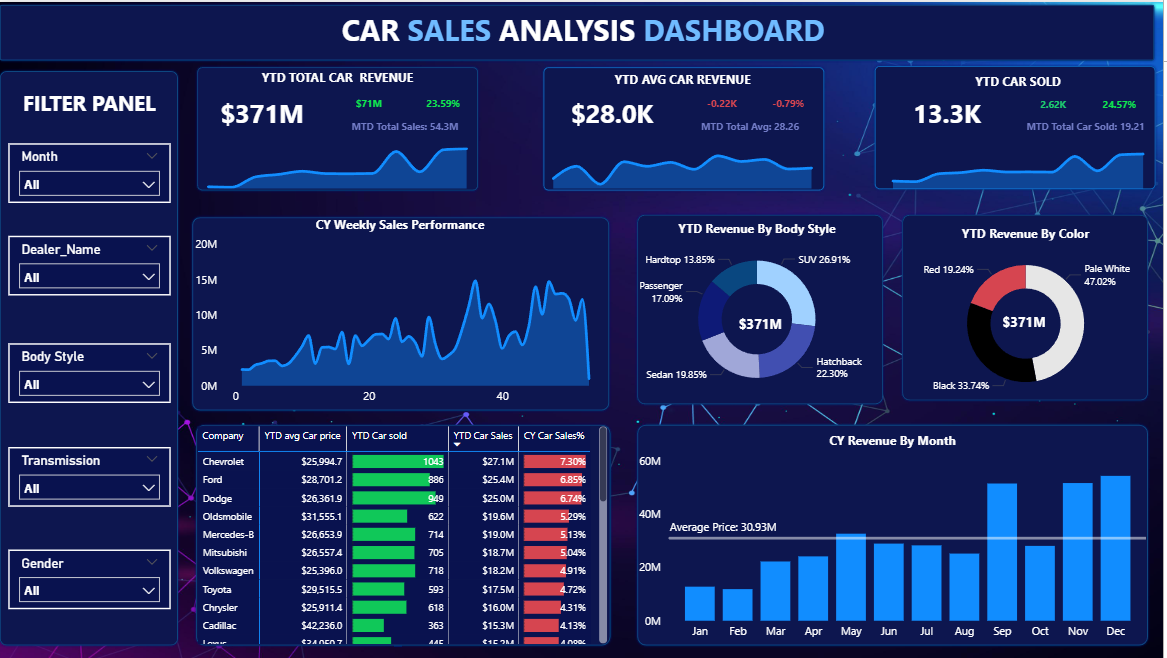

What the dashboard file says about the page in this screenshot:
{"tool":"powerbi","page":{"name":"Page 1","canvas":[1280,720],"ordinal":0},"visuals":[{"type":"shape","box":[216.3,68.3,314.2,141.3],"z":0},{"type":"shape","box":[210.7,233.6,463.8,218.2],"z":0,"group":"g4"},{"type":"textbox","box":[216.3,68.3,314.2,30.2],"z":1000},{"type":"shape","box":[596.9,68.6,314.2,141.3],"z":2000},{"type":"card","fields":{"Values":["car_data.YTD sales"]},"box":[216.3,98.5,148.2,48],"z":2000,"group":"g1"},{"type":"shape","box":[960.6,67.2,314.2,141.3],"z":3000},{"type":"card","fields":{"Values":["car_data.Cy & Py diff"]},"box":[385.1,98.5,45.3,24.7],"z":3000,"group":"g1"},{"type":"shape","box":[0,72.7,201.7,636.7],"z":4000},{"type":"card","fields":{"Values":["car_data.YoY sales"]},"box":[448.2,98.5,82.3,24.7],"z":4000,"group":"g1"},{"type":"shape","box":[0,0,1273.4,67.2],"z":5000},{"type":"textbox","box":[968.8,72.7,304.6,28.8],"z":5000,"group":"g3"},{"type":"card","fields":{"Values":["car_data.MTD Total Sales"]},"box":[364.5,123.2,166,31.6],"z":5000,"group":"g1"},{"type":"textbox","box":[12.3,4.1,1262.4,64.5],"z":6000},{"type":"areaChart","title":"CY Weekly Sales Performance","fields":{"Category":["CalanderT.week"],"Y":["Sum(car_data.Price ($))"]},"box":[212.5,235.5,459.7,216.8],"z":6000,"group":"g4"},{"type":"card","fields":{"Values":["car_data.Filter Panel"]},"box":[12.3,89.2,178.4,46.7],"z":7000},{"type":"areaChart","fields":{"Y":["car_data.Total_price"],"Category":["CalanderT.Date.Variation.Date Hierarchy.Month"]},"box":[216.3,146.5,314.2,63.1],"z":7000,"group":"g1"},{"type":"shape","box":[699.8,230.5,275.8,214.1],"z":7000,"group":"g5"},{"type":"donutChart","title":"YTD Revenue By Body Style","fields":{"Category":["car_data.Body Style"],"Y":["car_data.Total_price"]},"box":[699.8,238.7,269,201.7],"z":8000,"group":"g5"},{"type":"slicer","fields":{"Values":["car_data.Dealer_Name"]},"box":[12.3,256.6,178.4,65.9],"z":8000},{"type":"card","fields":{"Values":["car_data.YTD avg price"]},"box":[606.5,98.8,137.2,48],"z":9000,"group":"g2"},{"type":"shape","box":[990.7,230.5,275.8,209.9],"z":9000,"group":"g6"},{"type":"slicer","fields":{"Values":["car_data.Body Style"]},"box":[12.3,374.6,178.4,65.9],"z":9000},{"type":"card","fields":{"Values":["car_data.PY & CY DIFF AVG"]},"box":[764.6,99,63.1,24.7],"z":10000,"group":"g2"},{"type":"donutChart","title":"YTD  Revenue By Color","fields":{"Category":["car_data.Color"],"Y":["car_data.Total_price"]},"box":[992.1,244.2,274.4,200.3],"z":10000,"group":"g6"},{"type":"slicer","fields":{"Values":["car_data.Transmission"]},"box":[12.3,488.5,178.4,65.9],"z":10000},{"type":"card","fields":{"Values":["car_data.YOY AVG"]},"box":[828.1,98.6,82.3,24.7],"z":11000,"group":"g2"},{"type":"shape","box":[215.4,461.1,461.1,248.4],"z":11000,"group":"g7"},{"type":"slicer","fields":{"Values":["car_data.Gender"]},"box":[12.3,601,178.4,65.9],"z":11000},{"type":"card","fields":{"Values":["car_data.MTD total avg"]},"box":[744.4,123.3,166,31.6],"z":12000,"group":"g2"},{"type":"slicer","fields":{"Values":["CalanderT.Month"]},"box":[12.3,155.1,178.4,65.9],"z":12000},{"type":"textbox","box":[595.8,71.6,314.2,30.2],"z":13000,"group":"g2"},{"type":"group","id":"g1","title":"Group 1","box":[216.3,98.5,314.2,111.1],"z":14000},{"type":"areaChart","fields":{"Category":["CalanderT.Date.Variation.Date Hierarchy.Month"],"Y":["car_data.Avg total sales"]},"box":[596.2,146.6,314.2,63.1],"z":14000,"group":"g2"},{"type":"pivotTable","fields":{"Rows":["car_data.Company"],"Values":["car_data.YTD avg price","car_data.YTD Car sold","car_data.YTD sales1","car_data.YTD sales"]},"box":[215.4,461.1,459.7,248.4],"z":14000,"group":"g7"},{"type":"group","id":"g2","title":"Group 2","box":[595.8,71.6,314.6,138.2],"z":15000},{"type":"group","id":"g3","title":"Group 4","box":[968.8,72.7,305.1,138.6],"z":16000},{"type":"card","fields":{"Values":["car_data.YTD Car sold"]},"box":[968.8,98.8,148.2,48],"z":16000,"group":"g9"},{"type":"card","fields":{"Values":["car_data.YTD sales"]},"box":[790.4,337.5,96.1,35.7],"z":16000,"group":"g5"},{"type":"card","fields":{"Values":["car_data.DIFF CY & LY CAR SOld"]},"box":[1128.1,100.3,63.1,24.7],"z":17000,"group":"g9"},{"type":"group","id":"g4","title":"Group 5","box":[210.7,233.6,463.8,218.7],"z":17000},{"type":"card","fields":{"Values":["car_data.YTD sales"]},"box":[1079.9,336.2,96.1,35.7],"z":17000,"group":"g6"},{"type":"card","fields":{"Values":["car_data.% CAR SOLD"]},"box":[1191.6,99.9,82.3,24.7],"z":18000,"group":"g9"},{"type":"group","id":"g5","title":"Group 6","box":[699.8,230.5,275.8,214.1],"z":18000},{"type":"shape","box":[699.8,461.1,566.7,248.4],"z":18000,"group":"g8"},{"type":"card","fields":{"Values":["car_data.MTD CAR SOLDD"]},"box":[1117,123.5,156.4,31.6],"z":19000,"group":"g9"},{"type":"group","id":"g6","title":"Group 7","box":[990.7,230.5,275.8,214.1],"z":19000},{"type":"columnChart","title":"CY Revenue By Month","fields":{"Category":["CalanderT.Month"],"Y":["Sum(car_data.Price ($))"]},"box":[699.8,472.1,566.7,237.4],"z":19000,"group":"g8"},{"type":"group","id":"g7","title":"Group 8","box":[215.4,461.1,461.1,248.4],"z":20000},{"type":"areaChart","fields":{"Y":["car_data.Car Sold"],"Category":["CalanderT.Date.Variation.Date Hierarchy.Month"]},"box":[968.8,148.2,304.6,63.1],"z":21000,"group":"g9"},{"type":"group","id":"g8","title":"Group 9","box":[699.8,461.1,566.7,248.4],"z":21000},{"type":"group","id":"g9","title":"Group 3","box":[968.8,98.8,305.1,112.5],"z":29000,"group":"g3"}]}

Visuals, with their boxes in screenshot pixels (x1, y1, x2, y2), scaled from the page's 1280x720 canvas onto the 1167x658 screenshot:
shape: select_region(197, 62, 484, 192)
shape: select_region(192, 213, 615, 413)
textbox: select_region(197, 62, 484, 90)
shape: select_region(544, 63, 831, 192)
card - car_data.YTD sales: select_region(197, 90, 332, 134)
shape: select_region(876, 61, 1162, 191)
card - car_data.Cy & Py diff: select_region(351, 90, 392, 113)
shape: select_region(0, 66, 184, 648)
card - car_data.YoY sales: select_region(409, 90, 484, 113)
shape: select_region(0, 0, 1161, 61)
textbox: select_region(883, 66, 1161, 93)
card - car_data.MTD Total Sales: select_region(332, 113, 484, 141)
textbox: select_region(11, 4, 1162, 63)
"CY Weekly Sales Performance" areaChart: select_region(194, 215, 613, 413)
card - car_data.Filter Panel: select_region(11, 82, 174, 124)
areaChart - car_data.Total_price x CalanderT.Date.Variation.Date Hierarchy.Month: select_region(197, 134, 484, 192)
shape: select_region(638, 211, 889, 406)
"YTD Revenue By Body Style" donutChart: select_region(638, 218, 883, 402)
slicer - car_data.Dealer_Name: select_region(11, 235, 174, 295)
card - car_data.YTD avg price: select_region(553, 90, 678, 134)
shape: select_region(903, 211, 1155, 402)
slicer - car_data.Body Style: select_region(11, 342, 174, 403)
card - car_data.PY & CY DIFF AVG: select_region(697, 90, 755, 113)
"YTD  Revenue By Color" donutChart: select_region(905, 223, 1155, 406)
slicer - car_data.Transmission: select_region(11, 446, 174, 507)
card - car_data.YOY AVG: select_region(755, 90, 830, 113)
shape: select_region(196, 421, 617, 648)
slicer - car_data.Gender: select_region(11, 549, 174, 609)
card - car_data.MTD total avg: select_region(679, 113, 830, 142)
slicer - CalanderT.Month: select_region(11, 142, 174, 202)
textbox: select_region(543, 65, 830, 93)
"Group 1" group: select_region(197, 90, 484, 192)
areaChart - CalanderT.Date.Variation.Date Hierarchy.Month x car_data.Avg total sales: select_region(544, 134, 830, 192)
pivotTable - car_data.Company x car_data.YTD avg price: select_region(196, 421, 616, 648)
"Group 2" group: select_region(543, 65, 830, 192)
"Group 4" group: select_region(883, 66, 1161, 193)
card - car_data.YTD Car sold: select_region(883, 90, 1018, 134)
card - car_data.YTD sales: select_region(721, 308, 808, 341)
card - car_data.DIFF CY & LY CAR SOld: select_region(1029, 92, 1086, 114)
"Group 5" group: select_region(192, 213, 615, 413)
card - car_data.YTD sales: select_region(985, 307, 1072, 340)
card - car_data.% CAR SOLD: select_region(1086, 91, 1161, 114)
"Group 6" group: select_region(638, 211, 889, 406)
shape: select_region(638, 421, 1155, 648)
card - car_data.MTD CAR SOLDD: select_region(1018, 113, 1161, 142)
"Group 7" group: select_region(903, 211, 1155, 406)
"CY Revenue By Month" columnChart: select_region(638, 431, 1155, 648)
"Group 8" group: select_region(196, 421, 617, 648)
areaChart - car_data.Car Sold x CalanderT.Date.Variation.Date Hierarchy.Month: select_region(883, 135, 1161, 193)
"Group 9" group: select_region(638, 421, 1155, 648)
"Group 3" group: select_region(883, 90, 1161, 193)
